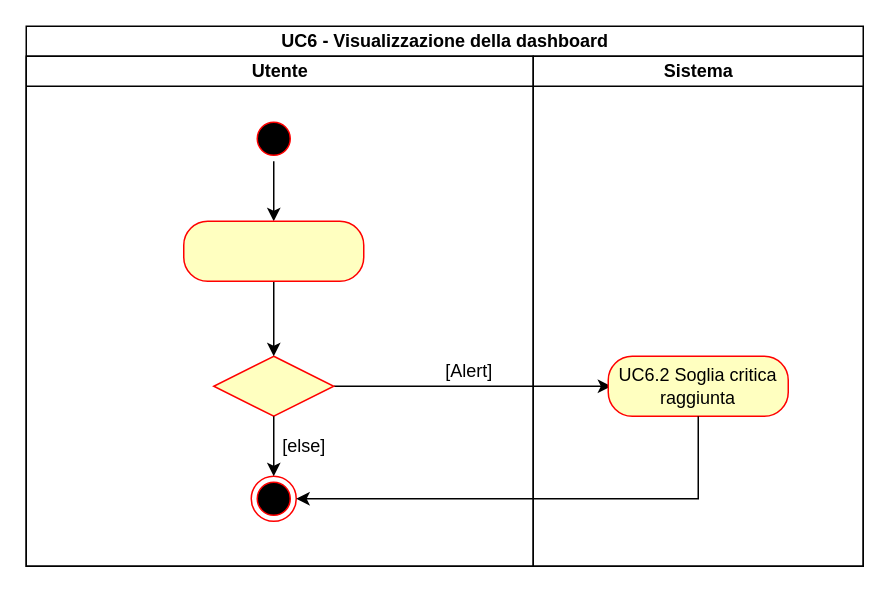
This 890x593 diagram has some shape labels left out. Here are the shapes that lost their labels. From the top down, the centre of each, then its label:
pixel 273 250: UC6.1 Visualizza le previsioni
pixel 273 385: Condition
